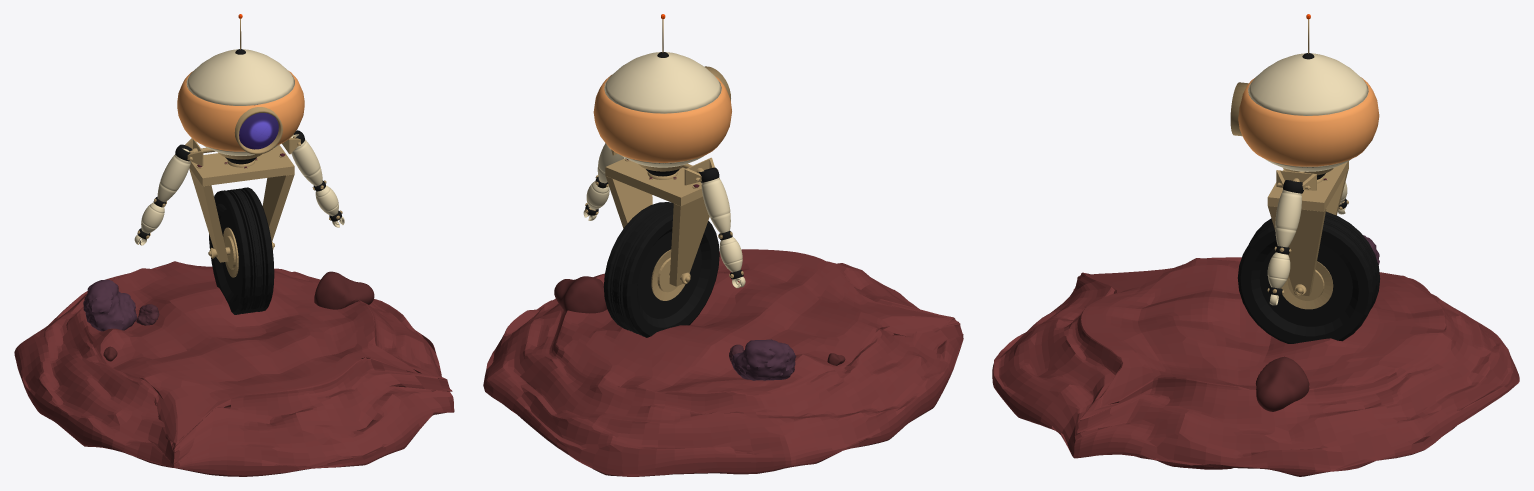
File: AnimatedDroid.glb
3 renders of one model, left to right at view 1: azimuth 30°, elevation 25°; view 2: azimuth 150°, elevation 25°; view 3: azimuth 270°, elevation 25°, orthographic. The views are drawn at different scales.
Visible parts, largest first — view 1: Cube, Tire, Droid Head, Left Brace, Droid Eye Band, rock.001, rock, droid Eye lens, Droid Upper Arm.001, Droid Upper Arm, Droid Lens Frame, Cylinder.058 (+2 smaller); view 2: Cube, Tire, Droid Eye Band, Droid Head, Left Brace, rock.001, rock, Droid Upper Arm.001, Cylinder.058, Droid Lower Arm.001; view 3: Cube, Tire, Droid Eye Band, Droid Head, Left Brace, rock, Cylinder.058, Droid Upper Arm, Droid Lower Arm.
Boxes of the visible parts, x1=… form: Cube: x1=14, y1=261, x2=454, y2=476; Tire: x1=209, y1=187, x2=274, y2=314; Droid Head: x1=186, y1=49, x2=294, y2=155; Left Brace: x1=189, y1=145, x2=294, y2=262; Droid Eye Band: x1=177, y1=70, x2=304, y2=151; rock.001: x1=83, y1=279, x2=136, y2=331; rock: x1=314, y1=271, x2=374, y2=309; droid Eye lens: x1=239, y1=104, x2=278, y2=149; Droid Upper Arm.001: x1=157, y1=148, x2=190, y2=202; Droid Upper Arm: x1=291, y1=134, x2=322, y2=186; Droid Lens Frame: x1=234, y1=107, x2=282, y2=154; Cylinder.058: x1=223, y1=227, x2=238, y2=277; Cube: x1=483, y1=249, x2=963, y2=476; Tire: x1=603, y1=202, x2=719, y2=337; Droid Eye Band: x1=593, y1=75, x2=731, y2=162; Droid Head: x1=604, y1=52, x2=721, y2=167; Left Brace: x1=605, y1=158, x2=709, y2=286; rock.001: x1=731, y1=339, x2=796, y2=380; rock: x1=554, y1=276, x2=606, y2=313; Droid Upper Arm.001: x1=701, y1=177, x2=730, y2=233; Cylinder.058: x1=651, y1=249, x2=684, y2=300; Droid Lower Arm.001: x1=719, y1=236, x2=742, y2=272; Cube: x1=992, y1=257, x2=1519, y2=476; Tire: x1=1237, y1=211, x2=1380, y2=343; Droid Eye Band: x1=1238, y1=77, x2=1379, y2=166; Droid Head: x1=1248, y1=53, x2=1368, y2=171; Left Brace: x1=1267, y1=161, x2=1348, y2=295; rock: x1=1255, y1=356, x2=1309, y2=411; Cylinder.058: x1=1280, y1=261, x2=1333, y2=309; Droid Upper Arm: x1=1275, y1=189, x2=1301, y2=247; Droid Lower Arm: x1=1267, y1=252, x2=1290, y2=288.
Size of the model in its own units: 2.59 by 2.43 by 2.99.
11 materials, 1 textured.
